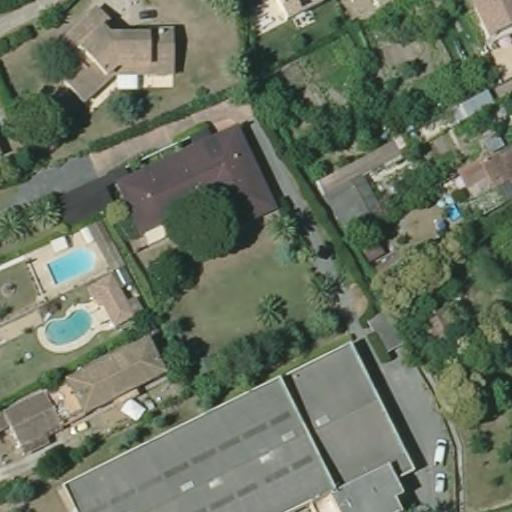pool: (41, 305, 96, 343), (44, 247, 96, 284), (440, 199, 462, 221)
